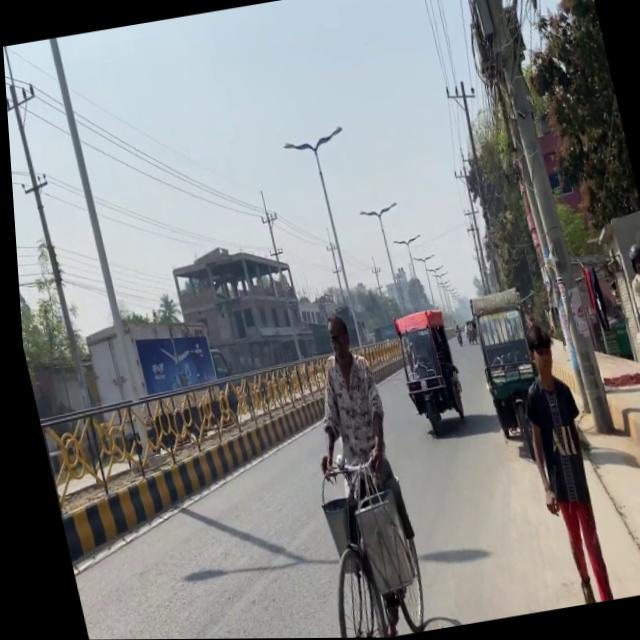Construction-barrier: (611, 397, 640, 514)
Fallen-tree: (458, 320, 473, 345)
Garbage: (75, 309, 228, 458), (384, 306, 465, 440)
Garbage-bin: (282, 310, 426, 638), (499, 321, 613, 607), (616, 242, 640, 435)
Pothole: (538, 314, 640, 601)
Traffic-cone: (460, 286, 549, 454)
